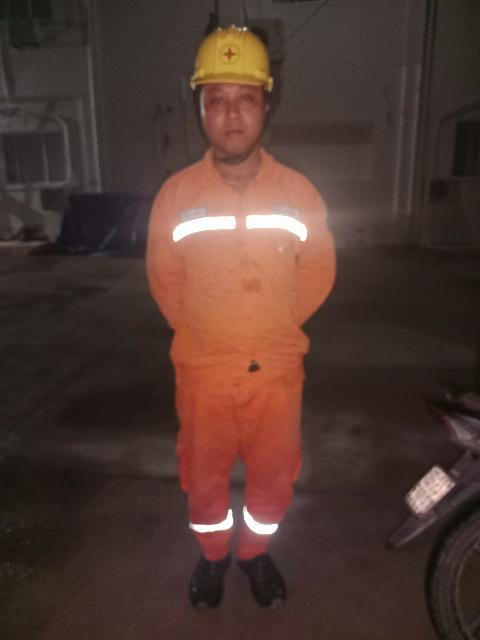helmet: (176, 2, 280, 99)
shoes: (241, 542, 293, 610), (185, 546, 230, 610)
